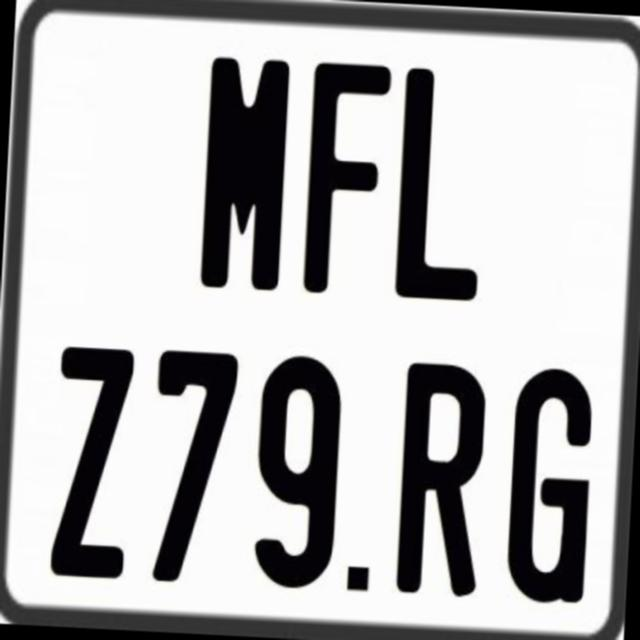7: (146, 347, 238, 586)
9: (250, 353, 350, 594)
F: (301, 60, 392, 304)
G: (505, 368, 599, 612)
L: (392, 68, 492, 304)
M: (198, 52, 290, 296)
R: (394, 358, 485, 597)
Z: (50, 343, 142, 584)
